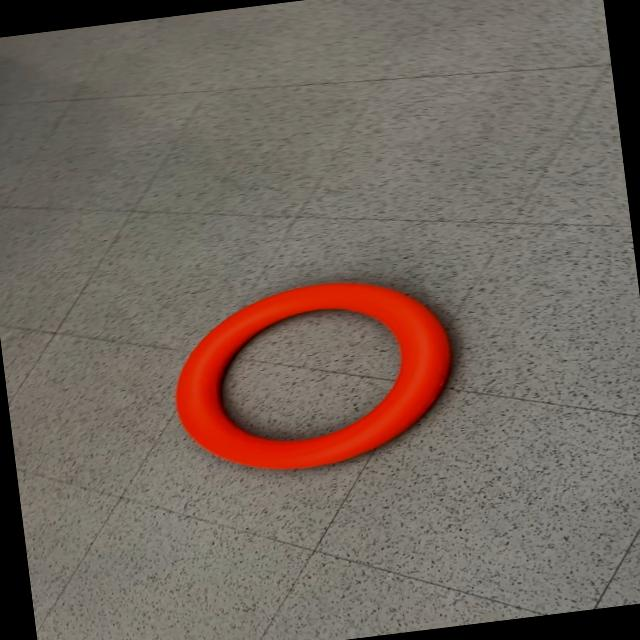note: (160, 267, 464, 484)
